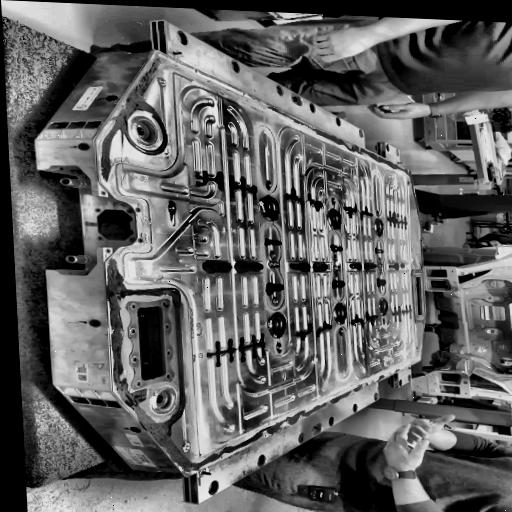b_casing: (94, 20, 422, 506)
